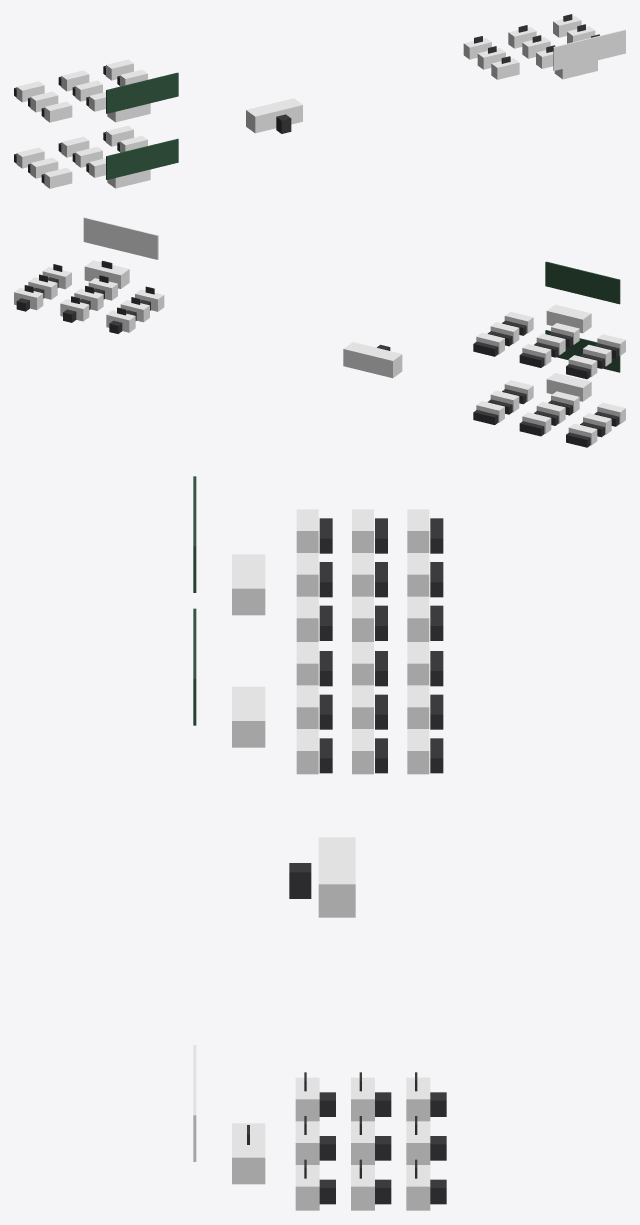
Rendered from campus_furniture.glb.
3 views of the same model, one above another, from view 1: azimuth 30°, elevation 25°; view 2: azimuth 150°, elevation 25°; view 3: azimuth 270°, elevation 25° (orthographic). The views are drawn at different scales.
Parts seen in each view (by area): view 1: Lab_G_Screen, Class_1_Whiteboard, Class_G_Blackboard, Reception_Counter, Desk_1_0_0, Desk_G_0_0, Lab_Desk_G_0_0, Teacher_Table_G, Teacher_Table_1, Lab_G_Instructor_Desk, Desk_1_1_0, Desk_G_1_0 (+20 smaller); view 2: Class_1_Whiteboard, Lab_G_Screen, Reception_Counter, Teacher_Table_G, Teacher_Table_1, Lab_G_Instructor_Desk, Class_G_Blackboard, Lab_Desk_G_2_0, Lab_Desk_G_2_2, Lab_Desk_G_2_1, Lab_Desk_G_0_0, Lab_Desk_G_1_2 (+21 smaller); view 3: Reception_Counter, Teacher_Table_1, Teacher_Table_G, Lab_G_Instructor_Desk, Lab_Desk_G_0_2, Lab_Desk_G_2_2, Lab_Desk_G_0_0, Lab_Desk_G_2_0, Lab_Desk_G_0_1, Lab_Desk_G_1_2, Lab_Desk_G_2_1, Desk_1_0_2 (+15 smaller).
Part boxes in pixels (bbox=[...]): Lab_G_Screen: bbox=[553, 29, 625, 70]; Class_1_Whiteboard: bbox=[106, 72, 178, 113]; Class_G_Blackboard: bbox=[106, 138, 178, 179]; Reception_Counter: bbox=[246, 98, 302, 133]; Desk_1_0_0: bbox=[44, 101, 72, 122]; Desk_G_0_0: bbox=[44, 167, 72, 188]; Lab_Desk_G_0_0: bbox=[491, 58, 519, 79]; Teacher_Table_G: bbox=[107, 169, 150, 188]; Teacher_Table_1: bbox=[107, 103, 150, 122]; Lab_G_Instructor_Desk: bbox=[554, 60, 597, 79]; Desk_1_1_0: bbox=[30, 91, 58, 112]; Desk_G_1_0: bbox=[30, 157, 58, 178]; Class_1_Whiteboard: bbox=[545, 261, 620, 304]; Lab_G_Screen: bbox=[83, 217, 158, 259]; Reception_Counter: bbox=[343, 342, 402, 378]; Teacher_Table_G: bbox=[546, 373, 591, 401]; Teacher_Table_1: bbox=[546, 304, 591, 333]; Lab_G_Instructor_Desk: bbox=[84, 260, 129, 288]; Class_G_Blackboard: bbox=[545, 330, 620, 372]; Lab_Desk_G_2_0: bbox=[106, 310, 135, 332]; Lab_Desk_G_2_2: bbox=[14, 287, 43, 309]; Lab_Desk_G_2_1: bbox=[60, 299, 89, 321]; Lab_Desk_G_0_0: bbox=[135, 289, 164, 311]; Lab_Desk_G_1_2: bbox=[28, 277, 57, 299]; Reception_Counter: bbox=[318, 837, 355, 917]; Teacher_Table_1: bbox=[232, 554, 265, 615]; Teacher_Table_G: bbox=[232, 686, 265, 747]; Lab_G_Instructor_Desk: bbox=[232, 1123, 265, 1184]; Lab_Desk_G_0_2: bbox=[295, 1165, 319, 1210]; Lab_Desk_G_2_2: bbox=[406, 1165, 430, 1210]; Lab_Desk_G_0_0: bbox=[295, 1077, 319, 1121]; Lab_Desk_G_2_0: bbox=[406, 1077, 430, 1121]; Lab_Desk_G_0_1: bbox=[295, 1121, 319, 1164]; Lab_Desk_G_1_2: bbox=[351, 1165, 374, 1210]; Lab_Desk_G_2_1: bbox=[406, 1121, 430, 1164]; Desk_1_0_2: bbox=[296, 596, 318, 641].
Size of the model in its own units: 35 by 6.56 by 6.87.
